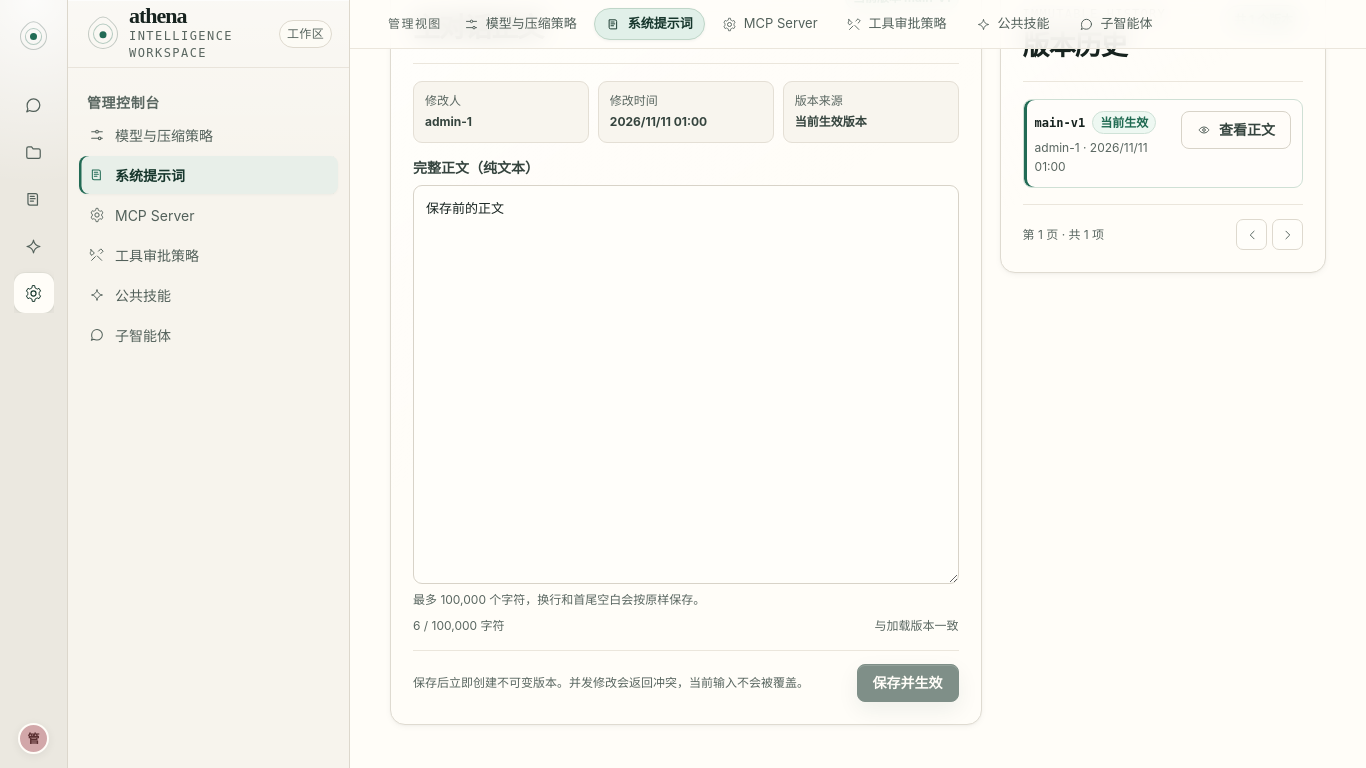
管理员系统提示词页 › 离开弹窗打开后保存网络失败，仍保持结果待确认语义
The width and height of the screenshot is (1366, 768).
(page scrolled)
Replace the text in the text box labelled "完整正文（纯文本） 最多 100,000 个字符，换行和首尾空白会按原样保存。" with "网络失败后仍需保留的正文" at point(686, 384), box [413, 185, 959, 584]
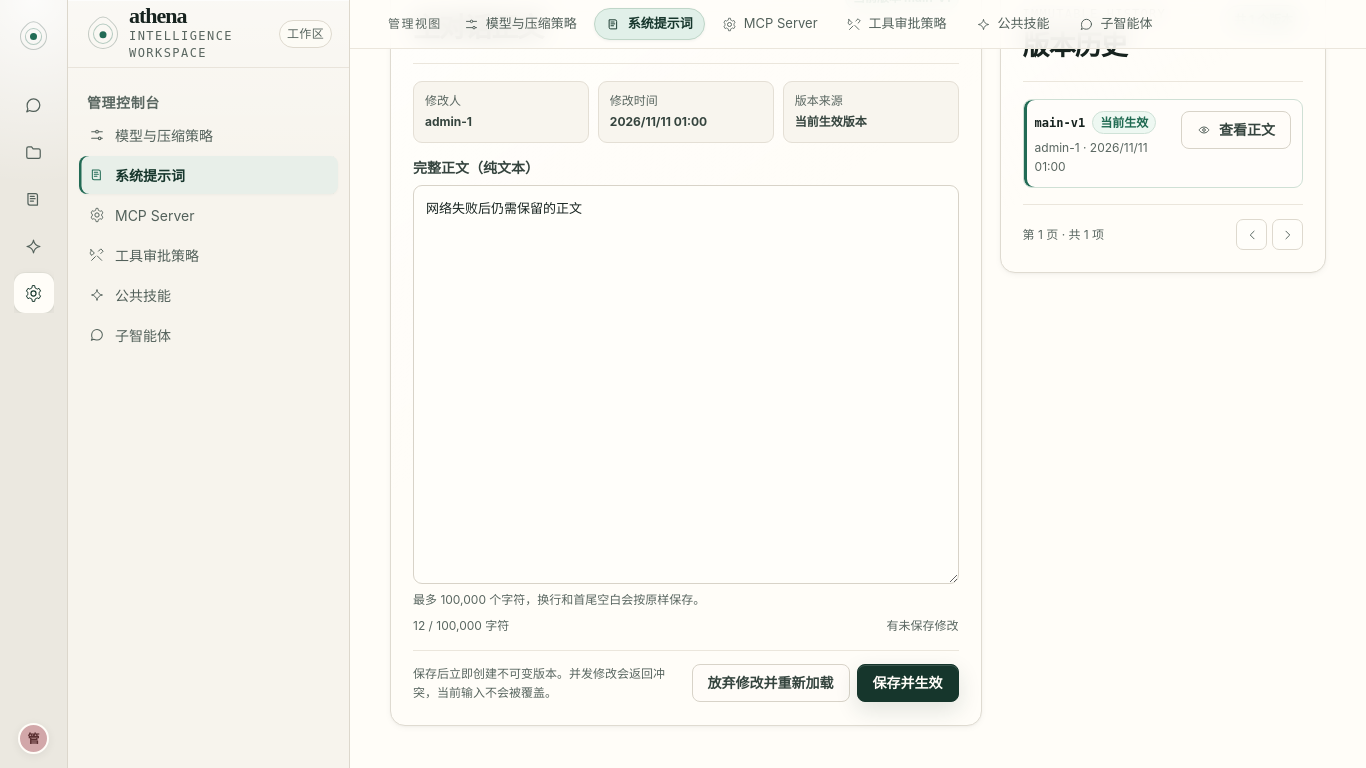
Click the button "保存并生效" at point(908, 684), box [857, 664, 959, 702]
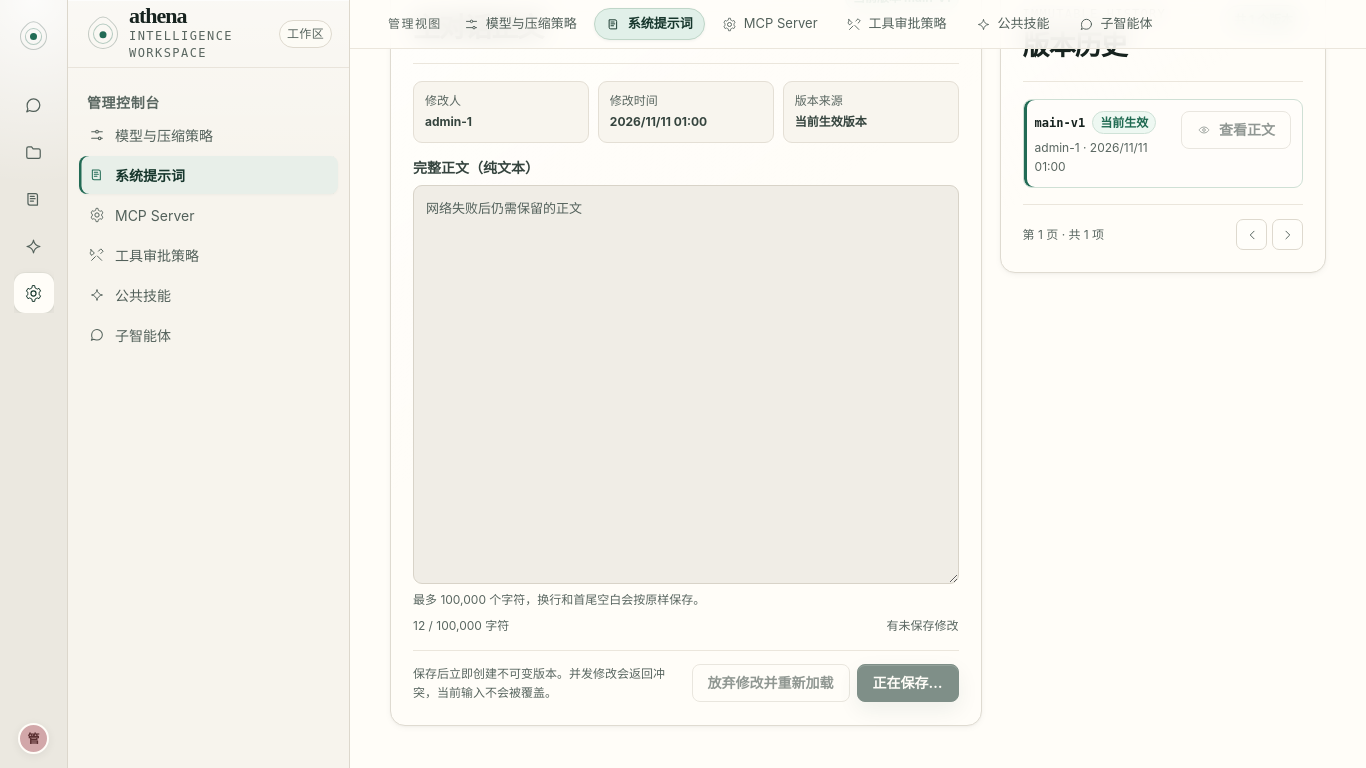
Expected: the button "正在保存…" is shown, [857, 664, 959, 702]
Click the button named "账户菜单" at point(34, 738), box [18, 723, 49, 754]
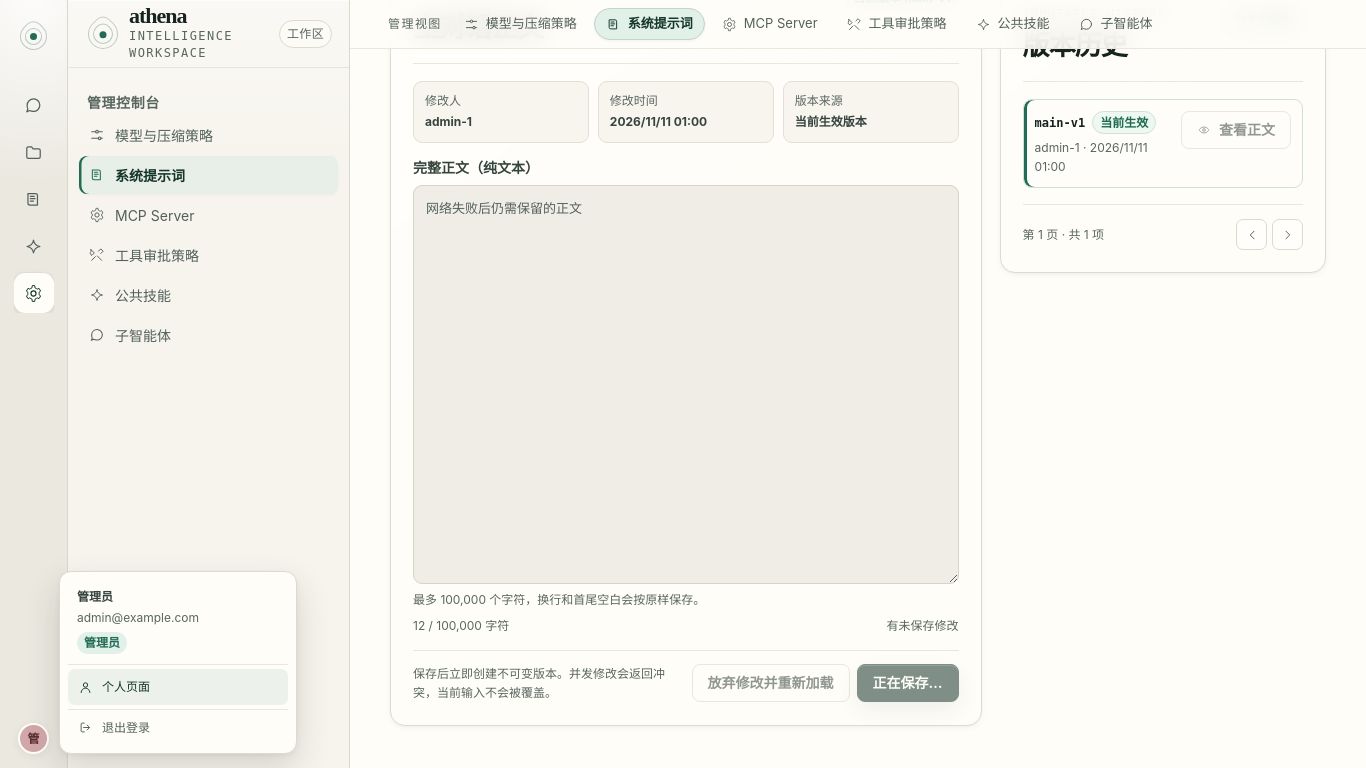
Click the menu item "个人页面" at point(178, 687), box [68, 669, 288, 705]
(page scrolled)
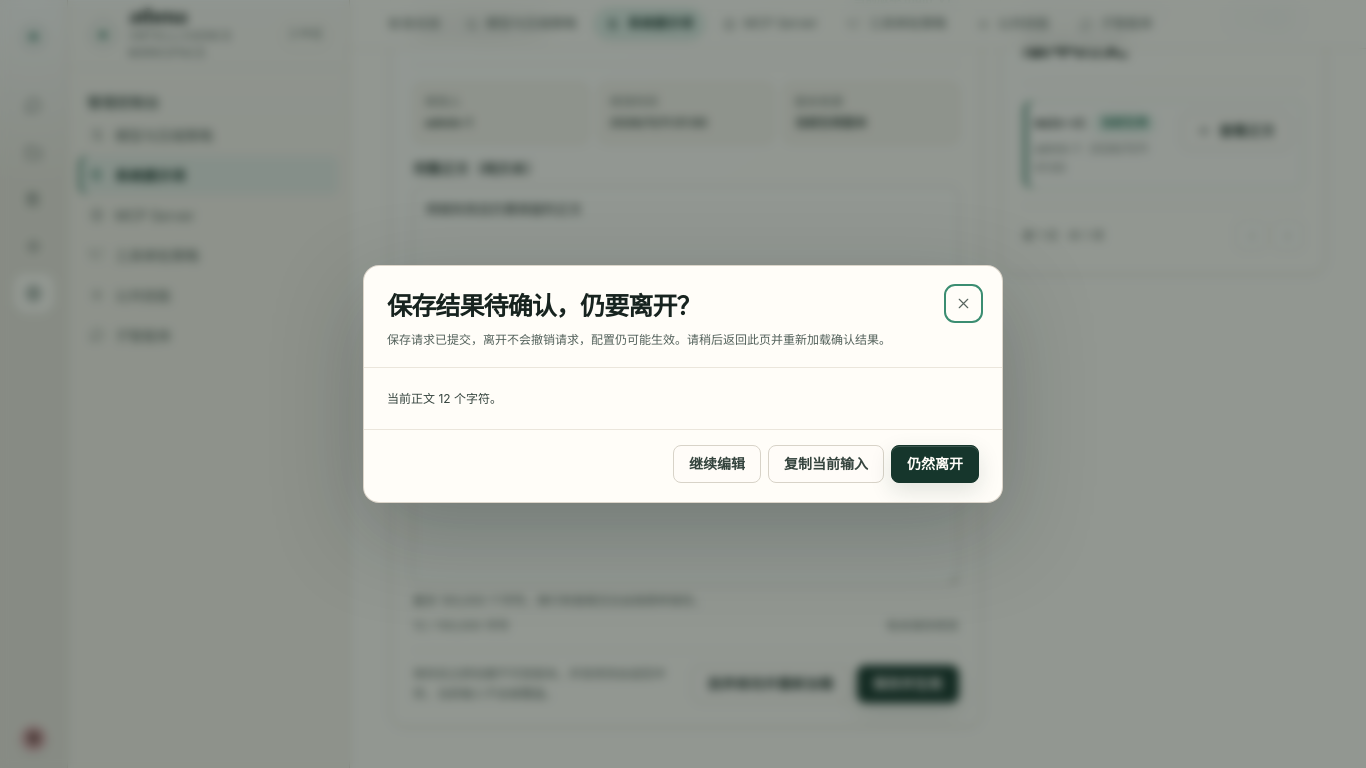
Expected: the heading "保存结果待确认，仍要离开？" is shown, [387, 293, 701, 320]
Expected: the text "保存请求已提交，离开不会撤销请求，配置仍可能生效。请稍后返回此页并重新加载确认结果。" is shown, [387, 330, 891, 350]
Click the button "继续编辑" at point(717, 464), box [673, 445, 761, 483]
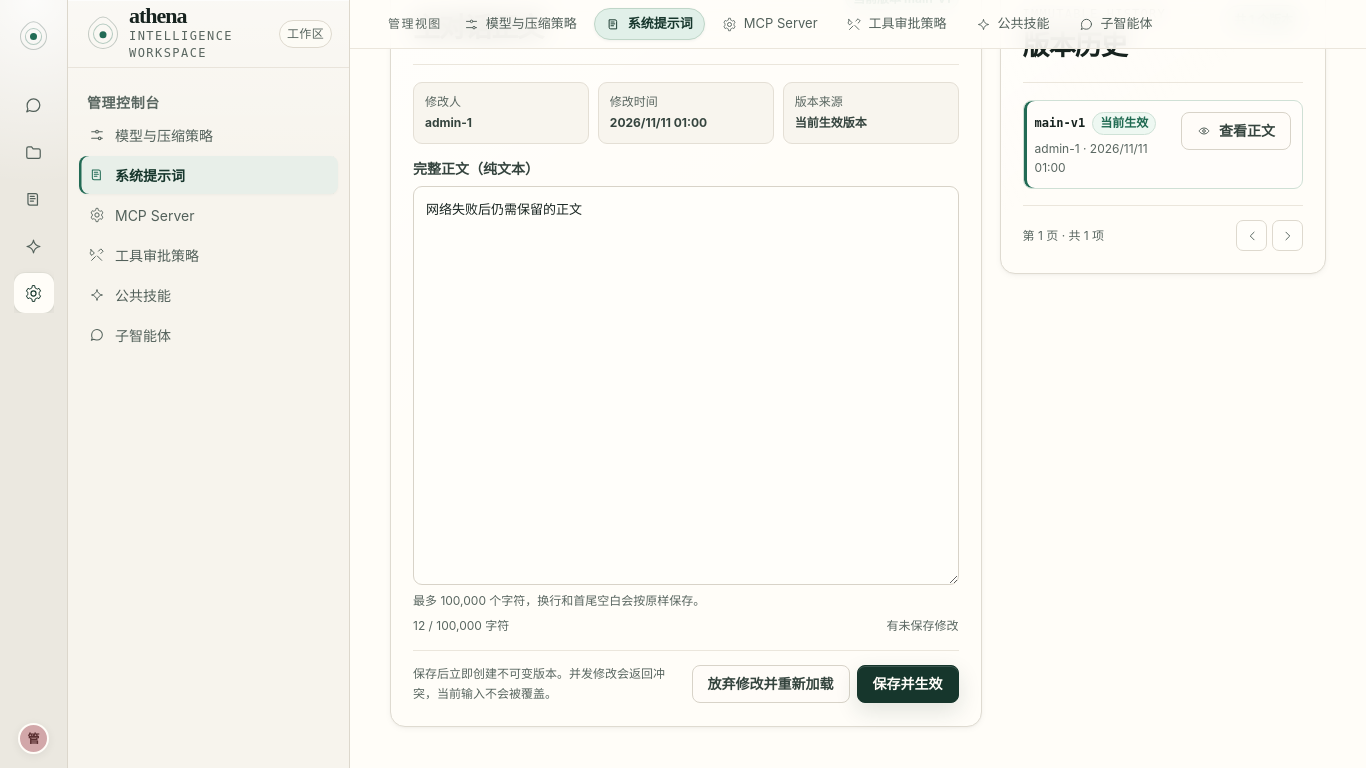
Expected: the heading "保存结果待确认，仍要离开？" is gone
